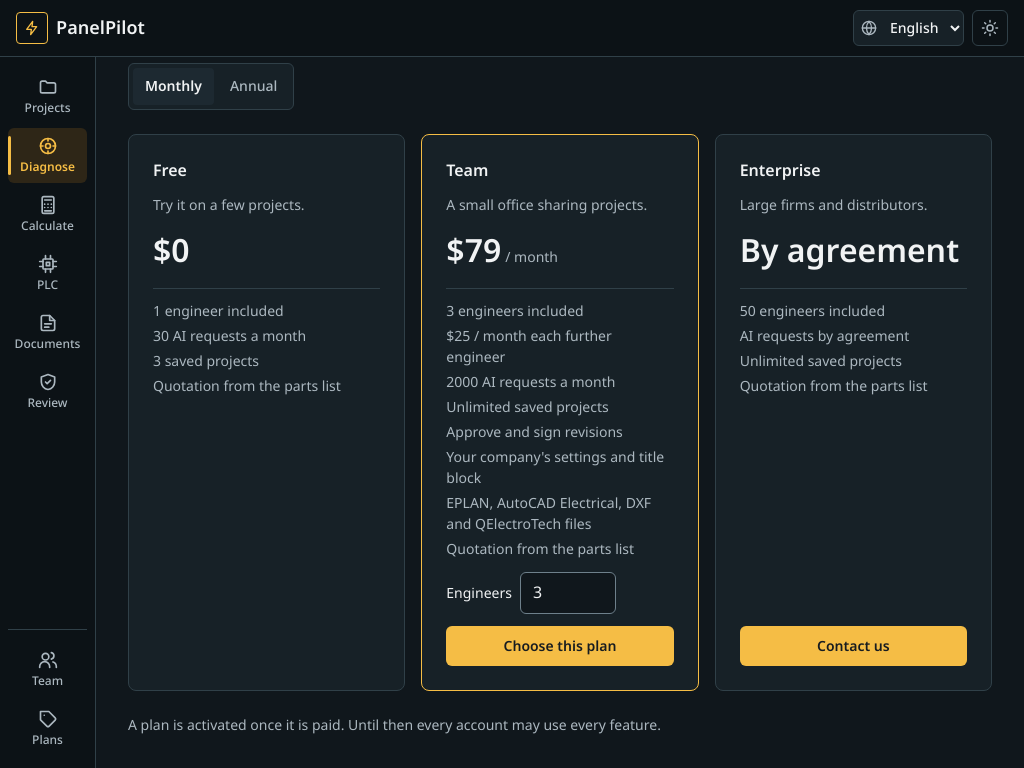
Test: pricing › asks for a plan with its seats and says it waits on payment
(page scrolled)
Expected: the list item with test id "plan-team" is shown, [421,134,699,691]
Step 1. Replace the text in the number field labelled "Engineers" with "5" → (568, 593), box [520,572,616,614]
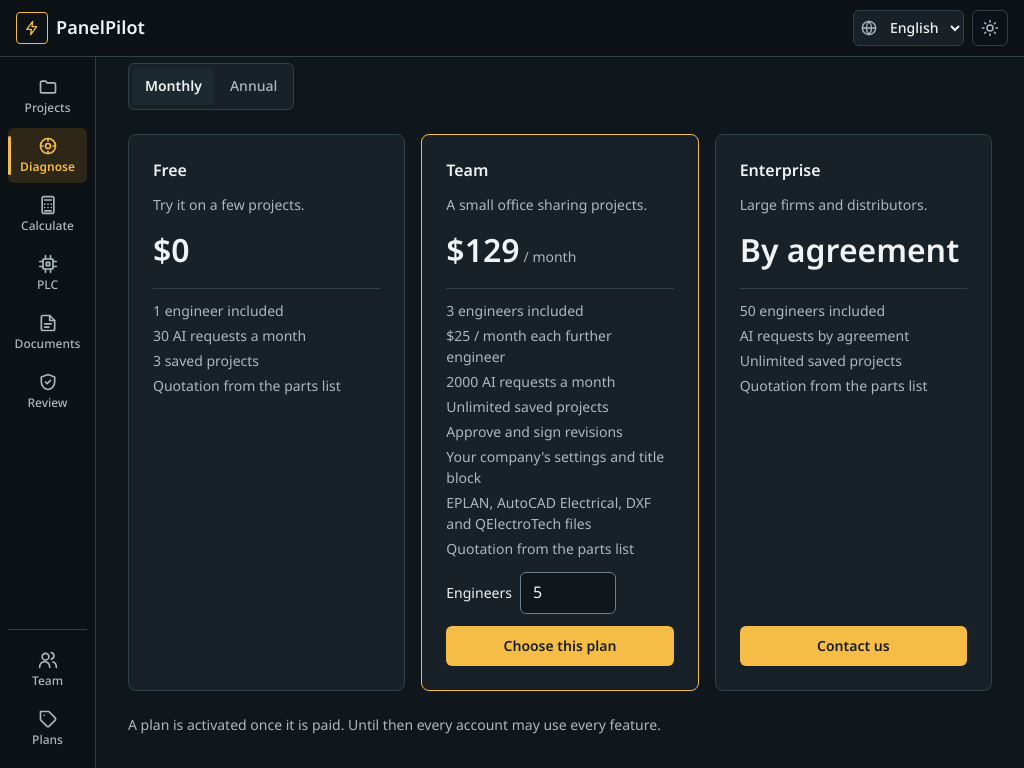
Expected: the list item with test id "plan-team" shows "$129", [446,218,520,286]
Step 2. Click the button "Choose this plan" → (560, 646), box [446,626,674,666]
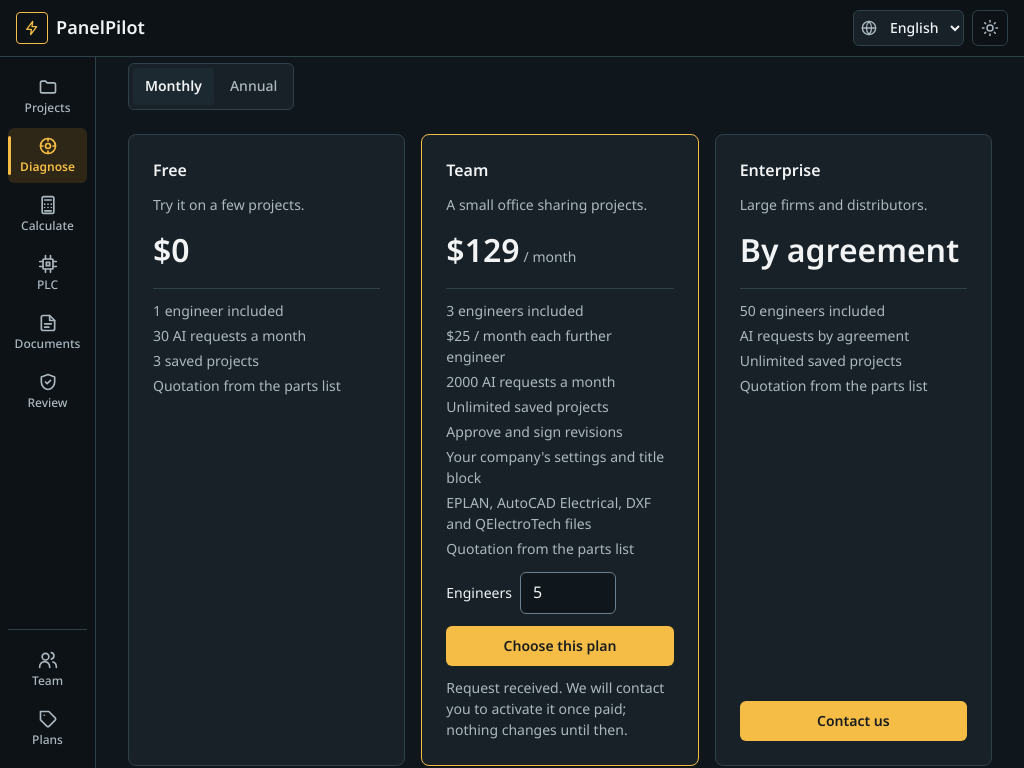
Expected: the message shows "Request received", [446,674,664,745]
